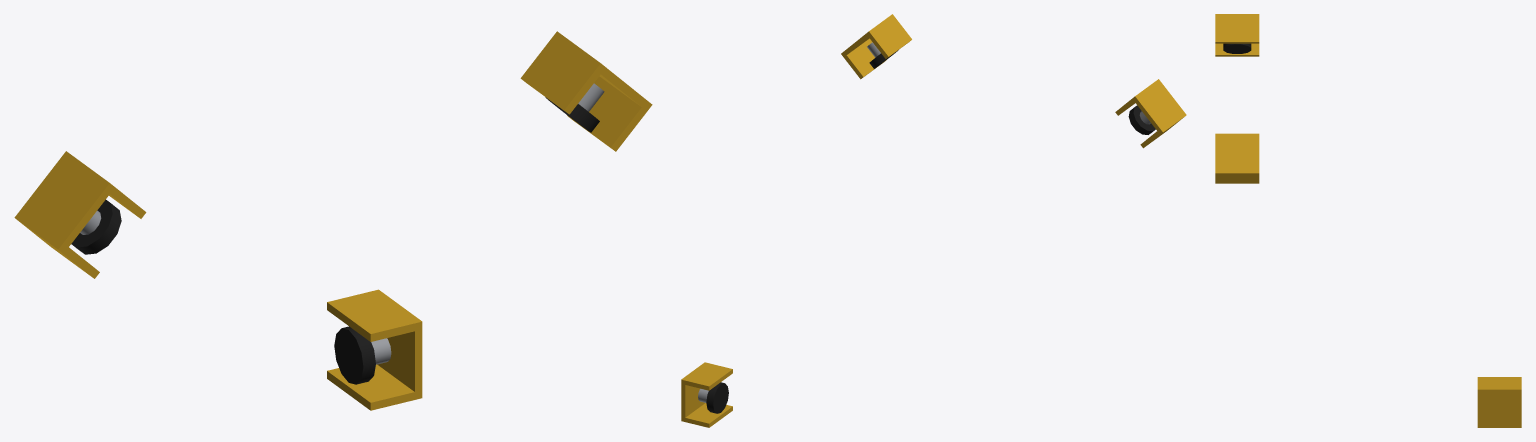
Rendered from kt1_sensor.obj.
3 renders of one model, left to right at view 1: azimuth 30°, elevation 25°; view 2: azimuth 150°, elevation 25°; view 3: azimuth 270°, elevation 25°, orthographic. The views are drawn at different scales.
Visible parts, largest first — view 1: kt1_sensor; view 2: kt1_sensor; view 3: kt1_sensor.
Part boxes in pixels (x1,y1,x2,y2): kt1_sensor: (14,31,652,410); kt1_sensor: (681,14,1186,427); kt1_sensor: (1215,14,1521,427).
Size of the model in its own units: 2.48 by 2.07 by 2.1.
